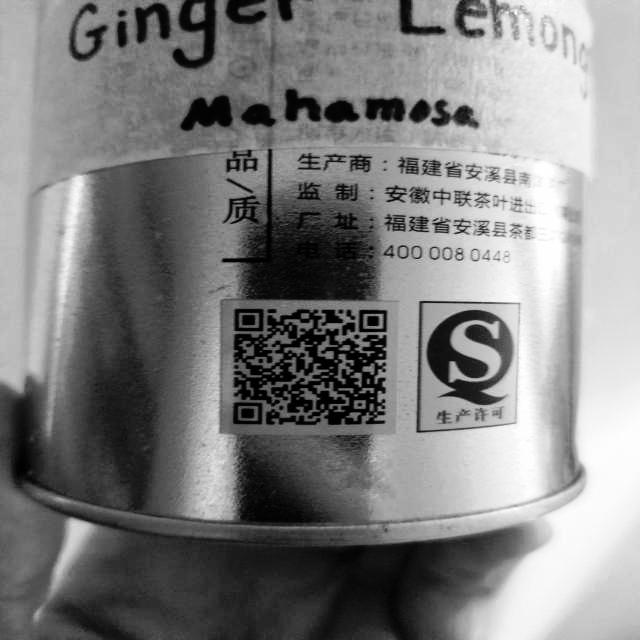qr_code: (221, 298, 399, 433)
